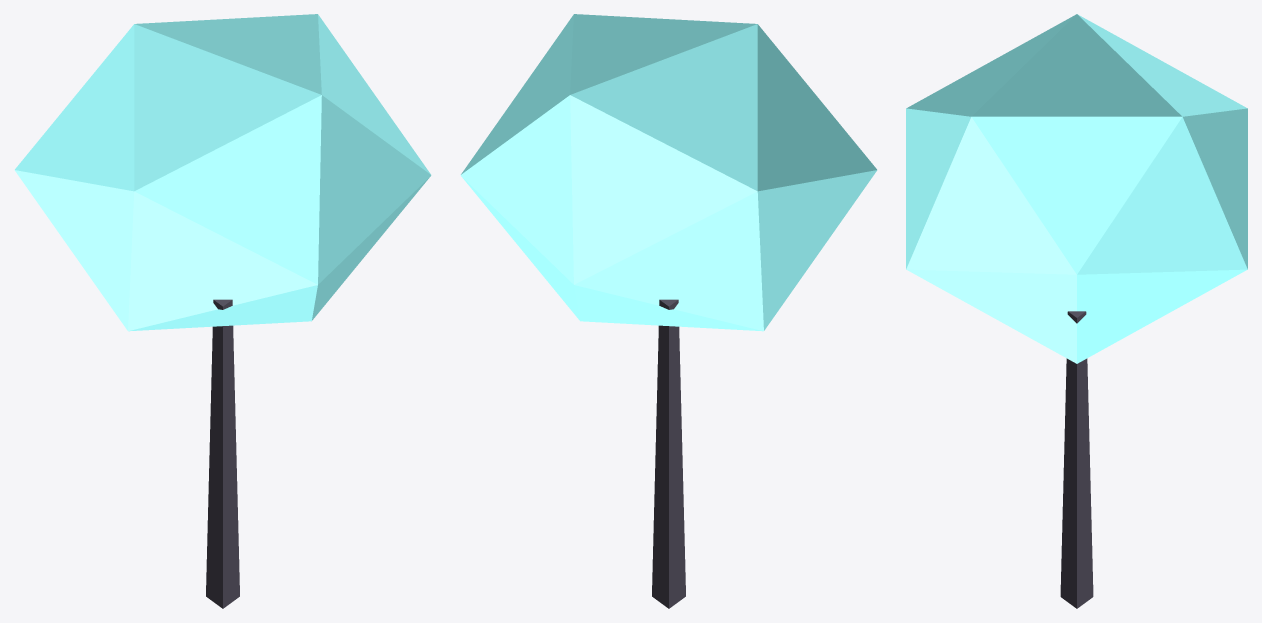
The model's file is teal_round_far.glb.
The picture shows the model from 3 angles, left to right: view 1: azimuth 30°, elevation 25°; view 2: azimuth 150°, elevation 25°; view 3: azimuth 270°, elevation 25°; orthographic projection. The views are drawn at different scales.
Parts seen in each view (by area): view 1: teal_round_far; view 2: teal_round_far; view 3: teal_round_far.
Boxes of the visible parts, x1,y1,x2,y2 form: teal_round_far: [14, 14, 431, 608]; teal_round_far: [460, 14, 877, 608]; teal_round_far: [906, 14, 1247, 608].
Size of the model in its own units: 1.62 by 2.83 by 1.62.
